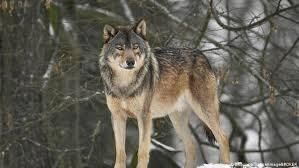Wolf: (98, 17, 230, 168)
